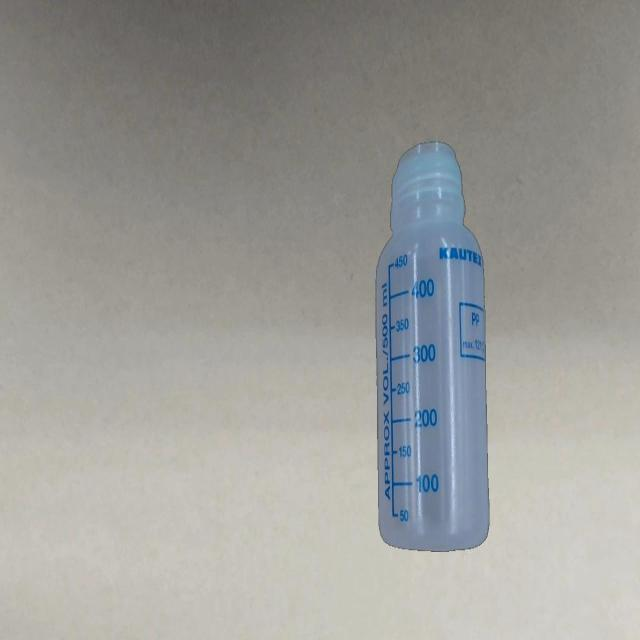bottle: (374, 139, 491, 553)
